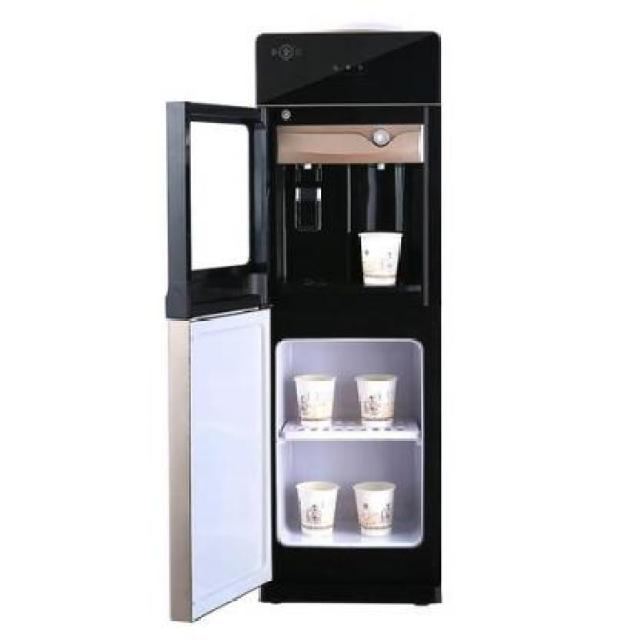cooler: (255, 23, 444, 614)
